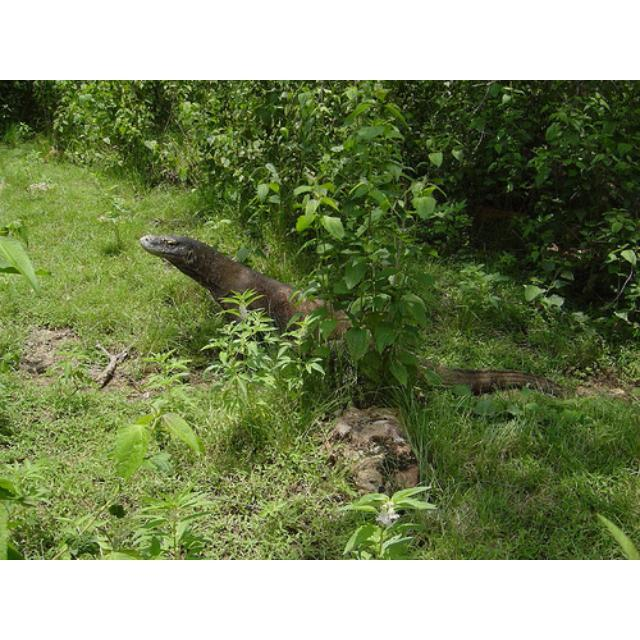KomodoDragon: (139, 231, 580, 465)
